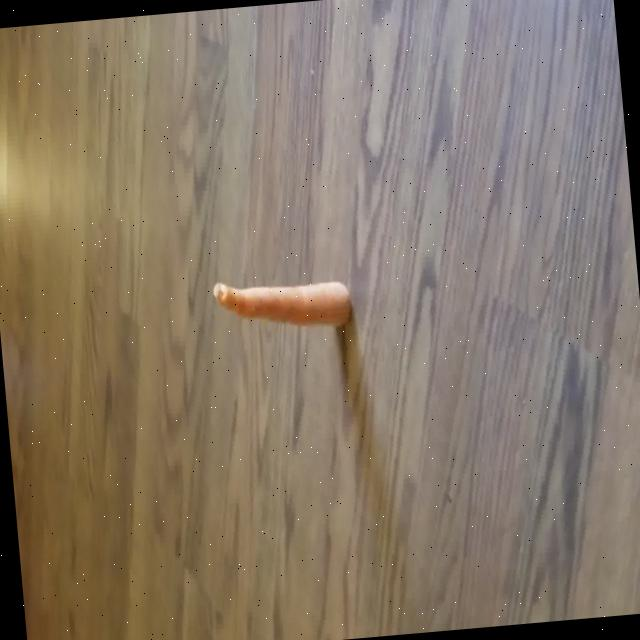carrot: (213, 280, 351, 325)
